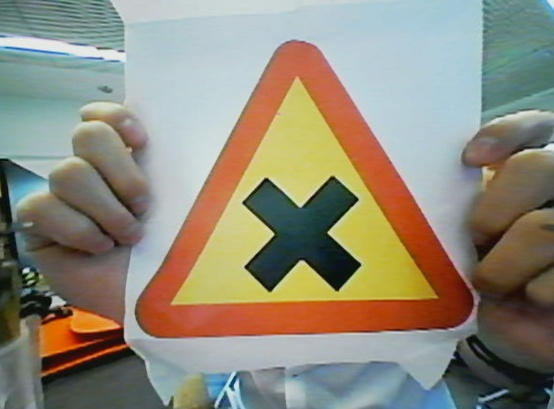junction: (147, 45, 479, 352)
